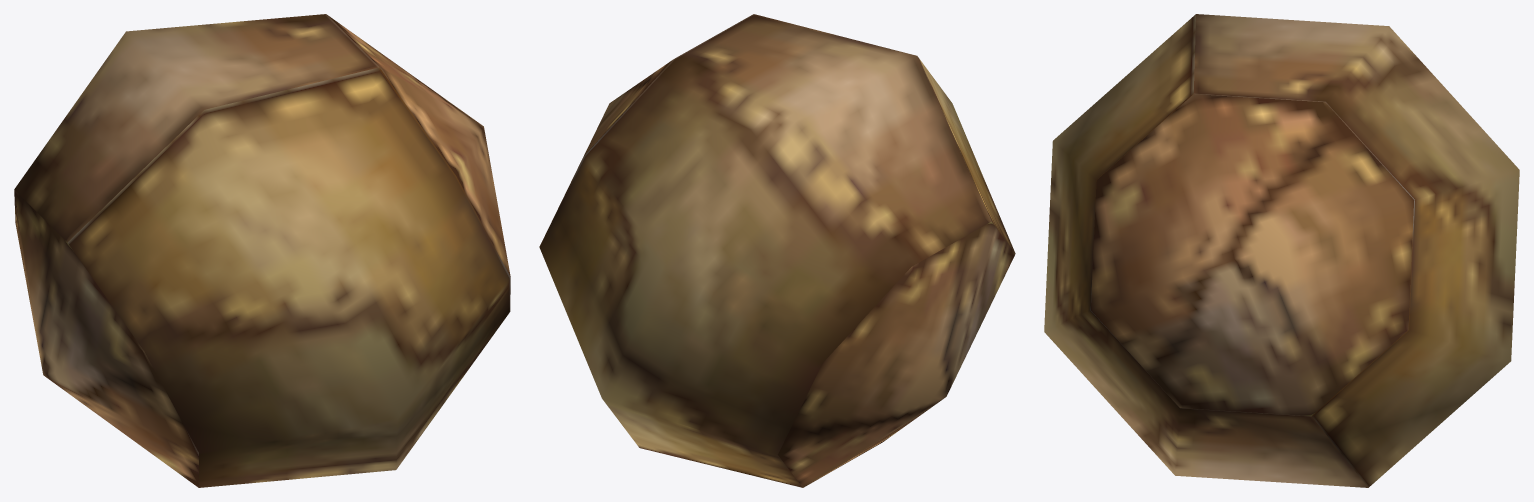
Rendered from taurenleatherball.obj.
3 views of the same model, side by side, from view 1: azimuth 30°, elevation 25°; view 2: azimuth 150°, elevation 25°; view 3: azimuth 270°, elevation 25° (orthographic). The views are drawn at different scales.
Visible parts, largest first — view 1: taurenleatherball; view 2: taurenleatherball; view 3: taurenleatherball.
Part boxes in pixels (x1,y1,x2,y2): taurenleatherball: (14, 14, 510, 487); taurenleatherball: (539, 14, 1015, 487); taurenleatherball: (1044, 14, 1519, 487).
Size of the model in its own units: 0.5084 by 0.4619 by 0.5228.
1 material, 1 textured.
